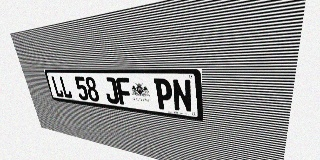5: (74, 76, 89, 101)
8: (84, 77, 100, 102)
F: (115, 77, 133, 106)
J: (103, 77, 120, 104)
L: (59, 76, 73, 99), (51, 76, 64, 98)
N: (172, 79, 192, 113)
P: (154, 78, 173, 111)
